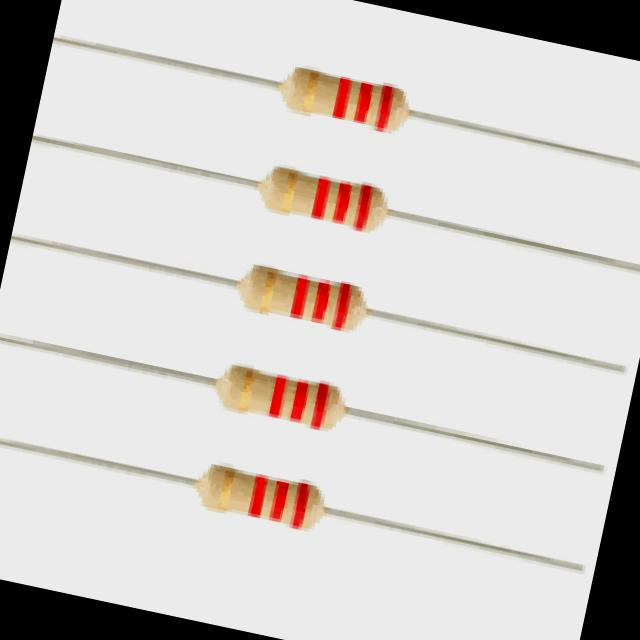Resistor: (195, 467, 323, 530), (258, 169, 385, 232), (215, 368, 342, 430), (237, 269, 364, 331), (279, 70, 406, 132)
gold: (302, 70, 320, 114), (218, 467, 235, 510), (261, 268, 277, 311), (282, 169, 298, 212), (240, 368, 255, 412)
red: (375, 85, 395, 131), (333, 283, 352, 330), (354, 184, 373, 230), (291, 483, 310, 528), (311, 383, 329, 429), (269, 481, 289, 522), (333, 76, 352, 119), (312, 178, 331, 219), (354, 83, 373, 123), (333, 183, 352, 223), (312, 283, 331, 322), (291, 278, 309, 318), (249, 477, 267, 517), (291, 381, 309, 421), (270, 377, 286, 417)
